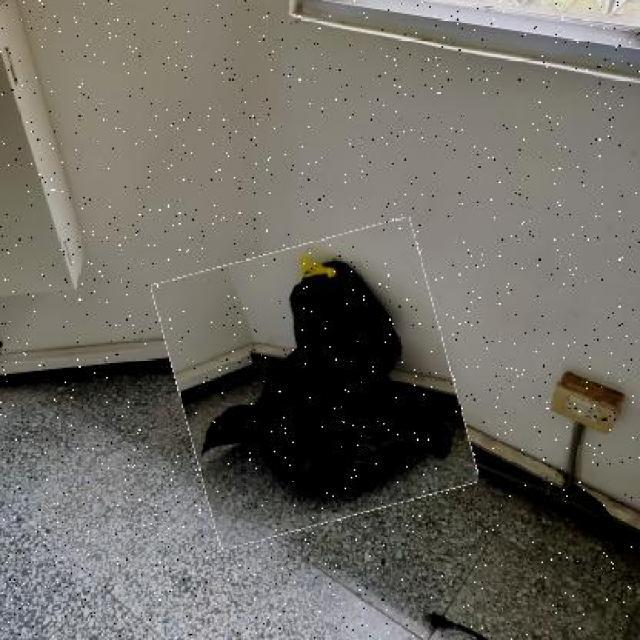waste: (167, 232, 466, 534)
